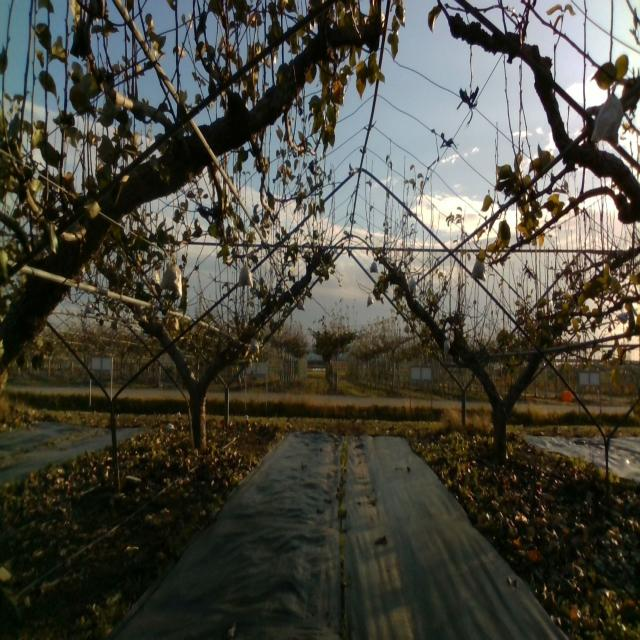pearbags: (592, 82, 624, 147), (159, 258, 183, 296), (237, 259, 254, 288), (472, 258, 486, 281)
